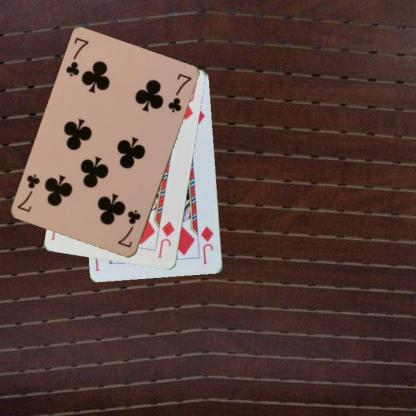7c: (63, 35, 90, 79), (115, 208, 143, 250)
Jd: (156, 219, 177, 259), (198, 223, 216, 266)
